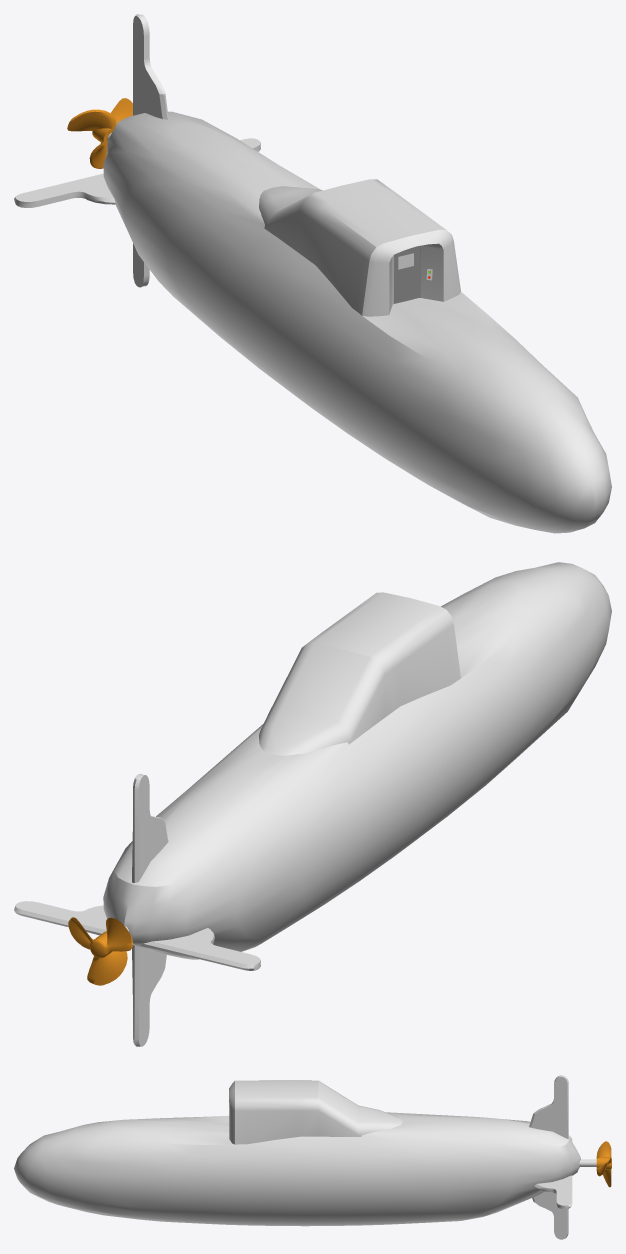
3 renders of one model, top to bottom at view 1: azimuth 30°, elevation 25°; view 2: azimuth 150°, elevation 25°; view 3: azimuth 270°, elevation 25°, orthographic. The views are drawn at different scales.
Parts seen in each view (by area): view 1: sub_hull, sub_hull_cover, sub_fins, sub_propellor, door_dorsal_airlock; view 2: sub_hull, sub_hull_cover, sub_fins, sub_propellor; view 3: sub_hull, sub_hull_cover, sub_fins, sub_propellor.
Part boxes in pixels (bbox=[...]): sub_hull: bbox=[103, 111, 611, 533]; sub_hull_cover: bbox=[259, 179, 460, 316]; sub_fins: bbox=[14, 14, 260, 287]; sub_propellor: bbox=[67, 98, 132, 168]; door_dorsal_airlock: bbox=[393, 246, 419, 303]; sub_hull: bbox=[103, 562, 611, 959]; sub_hull_cover: bbox=[259, 592, 460, 755]; sub_fins: bbox=[14, 774, 260, 1046]; sub_propellor: bbox=[68, 917, 132, 985]; sub_hull: bbox=[14, 1112, 580, 1226]; sub_hull_cover: bbox=[229, 1080, 402, 1144]; sub_fins: bbox=[529, 1075, 572, 1239]; sub_propellor: bbox=[579, 1141, 611, 1187].
Bounding box in the file's own units: 8.83 × 9.41 × 31.37.
